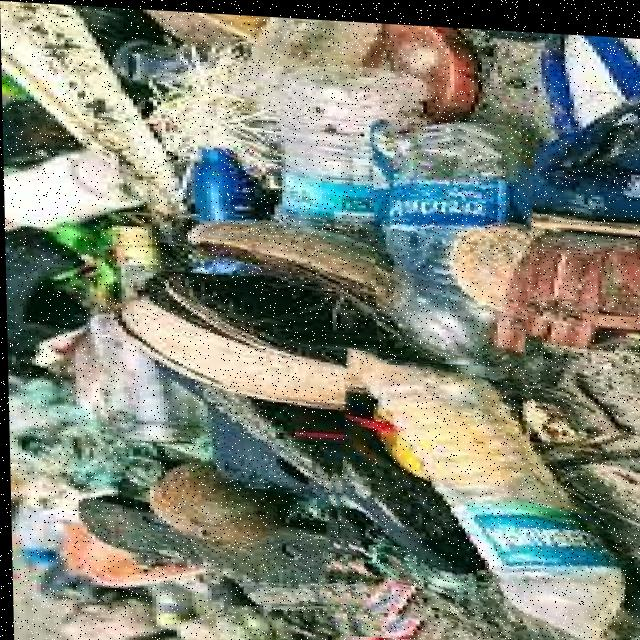litter: (319, 352, 640, 640), (372, 113, 539, 362)
